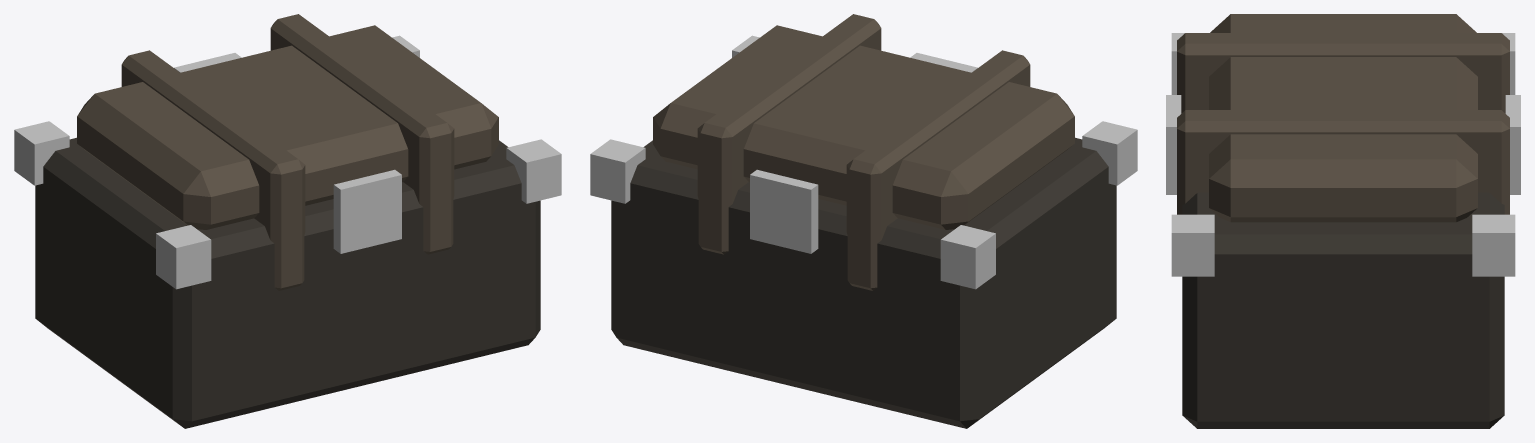
File: loot_cache.glb
3 renders of one model, left to right at view 1: azimuth 30°, elevation 25°; view 2: azimuth 150°, elevation 25°; view 3: azimuth 270°, elevation 25°, orthographic. The views are drawn at different scales.
Parts seen in each view (by area): view 1: prop.loot_cache; view 2: prop.loot_cache; view 3: prop.loot_cache.
Part boxes in pixels (<box>): prop.loot_cache: <box>14,14,561,428</box>; prop.loot_cache: <box>590,14,1137,428</box>; prop.loot_cache: <box>1166,14,1520,428</box>.
Bounding box in the file's own units: 0.4237 × 0.26 × 0.3178.
